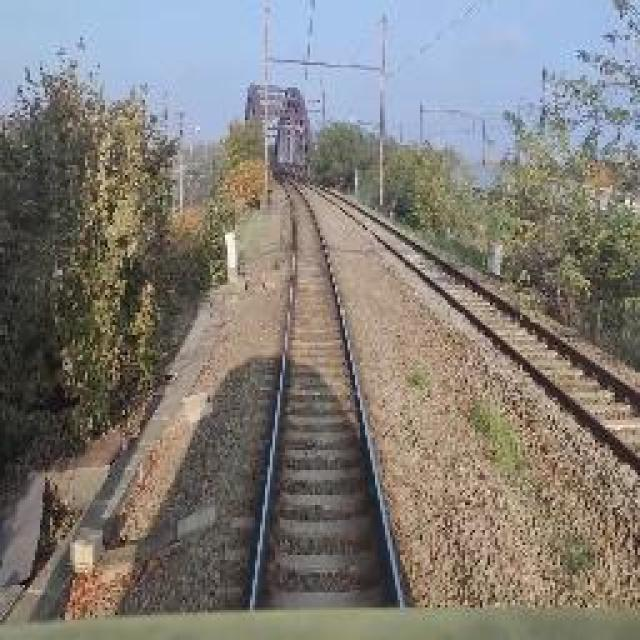rail: (289, 177, 640, 513), (222, 174, 426, 611)
